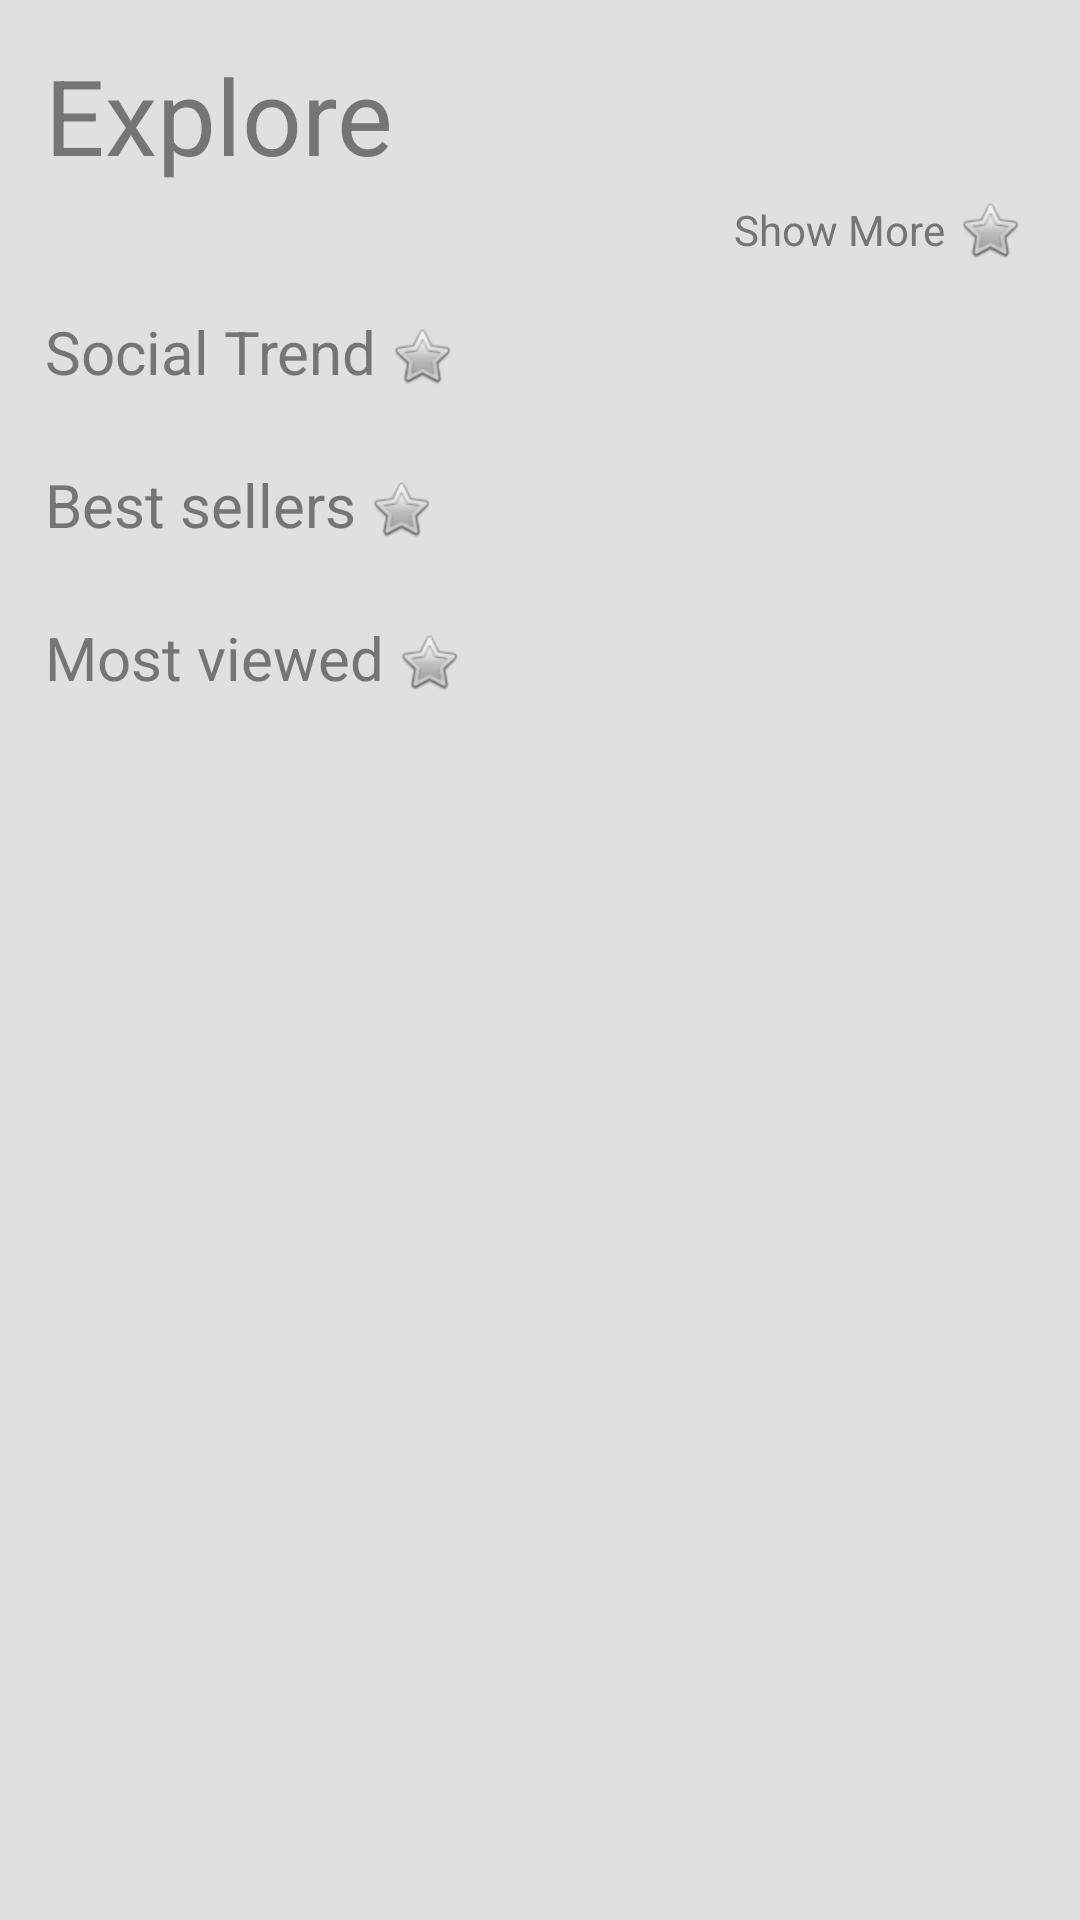

Icon bounding boxes for this 1080w x 1920h phone screenshot, format Rect(x1, y1, x2, y2):
star: Rect(963, 204, 1018, 257), Rect(395, 330, 450, 383), Rect(374, 483, 429, 536), Rect(402, 636, 457, 689)
